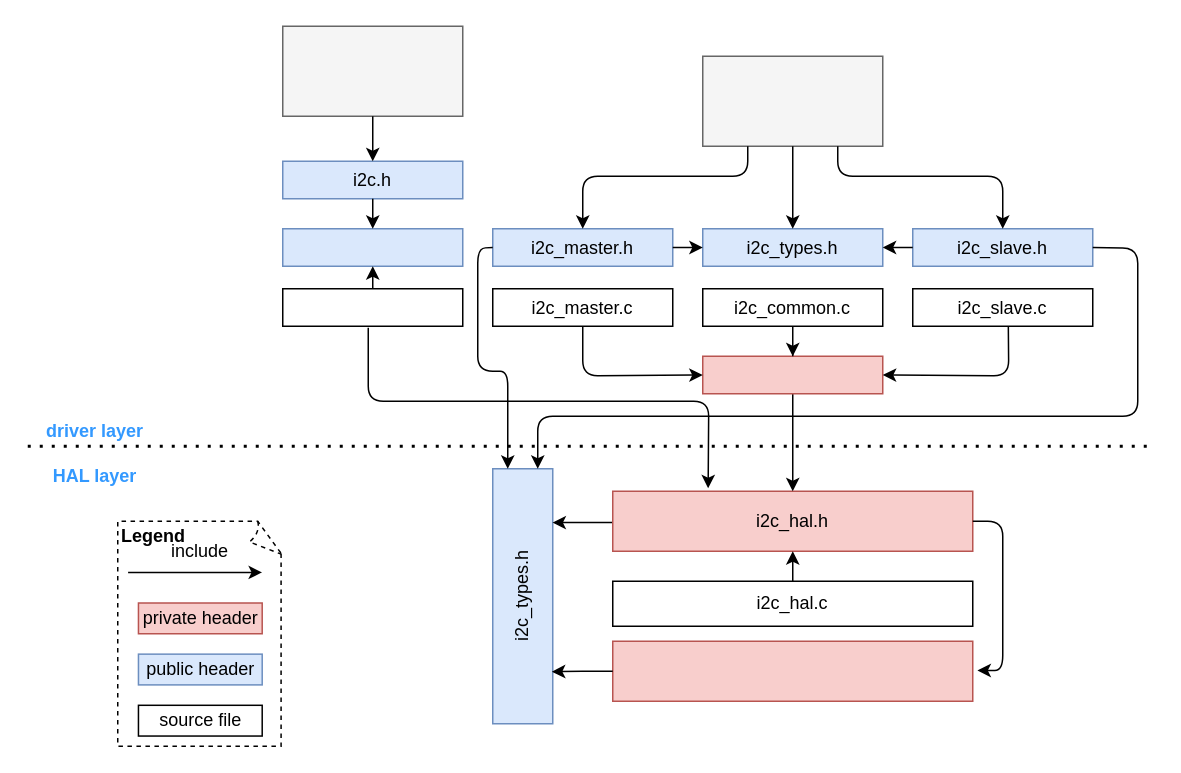
Some shapes in this 1181 by 773 pixel diagram are drawn without their labels. The shapes that lost their labels are listed below. From the top down, each one's centre as x and y in pixels, then its label:
At point 372,70: "I2C Application (legacy APIs)".
At point 792,100: "I2C Application".
At point 372,246: "i2c_types_legacy.h".
At point 372,306: "i2c_legacy.c".
At point 792,374: "i2c_private.h".
At point 792,670: "i2c_ll.h".
